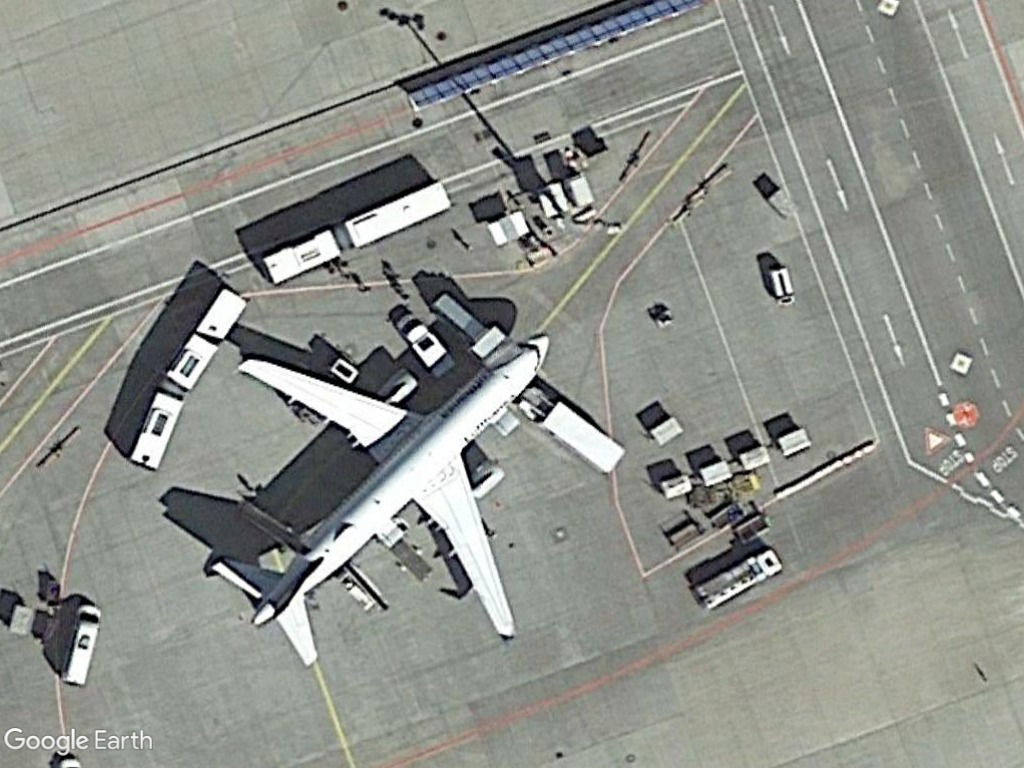airliner: (207, 321, 560, 667)
bus: (161, 286, 256, 395), (341, 178, 454, 252), (128, 387, 184, 473), (262, 226, 341, 286)
van: (54, 598, 104, 689)
